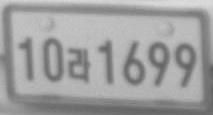0: (42, 37, 65, 81)
1: (15, 36, 39, 80), (95, 39, 119, 83)
6: (123, 40, 146, 85)
9: (174, 42, 197, 87), (148, 40, 170, 87)
라: (67, 47, 92, 83)
